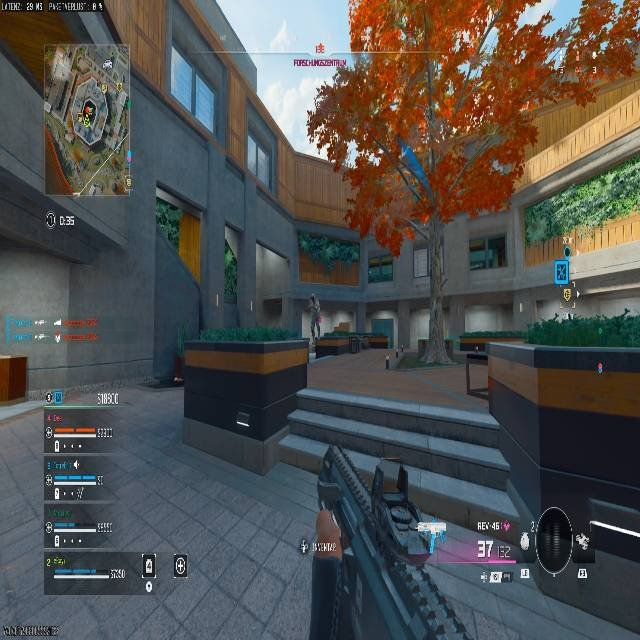player: (304, 293, 322, 341)
